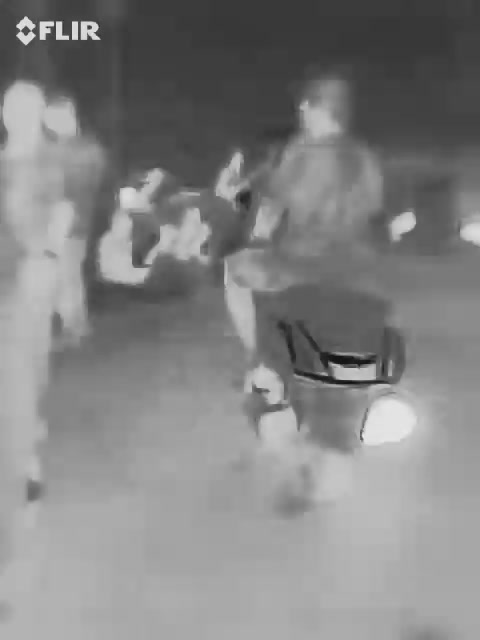head: (294, 73, 355, 142)
